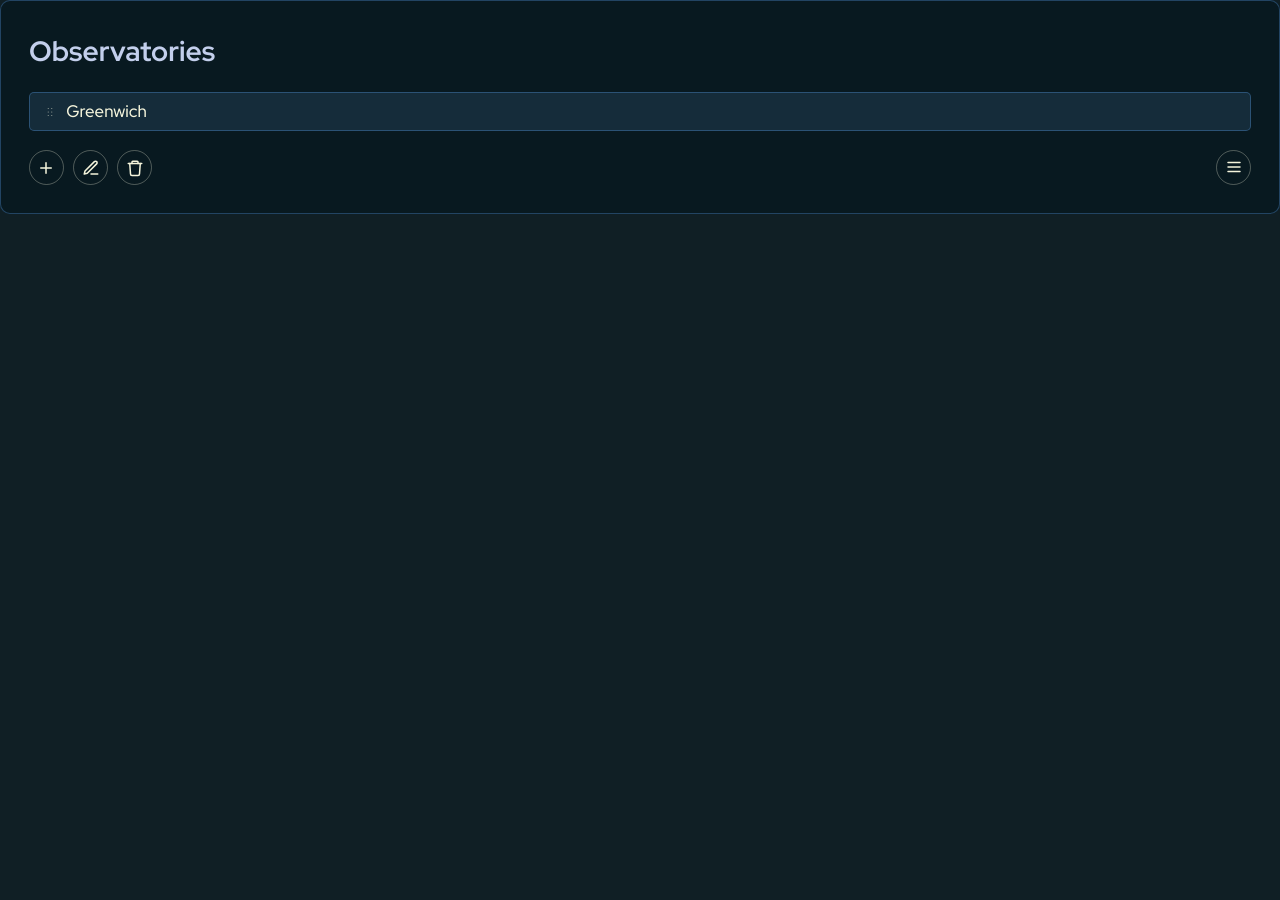
Scenario: adding › opens an empty editor
The image size is (1280, 900).
Click the button named "add observatory" at (46, 167), box x1=29 y1=150 x2=64 y2=185
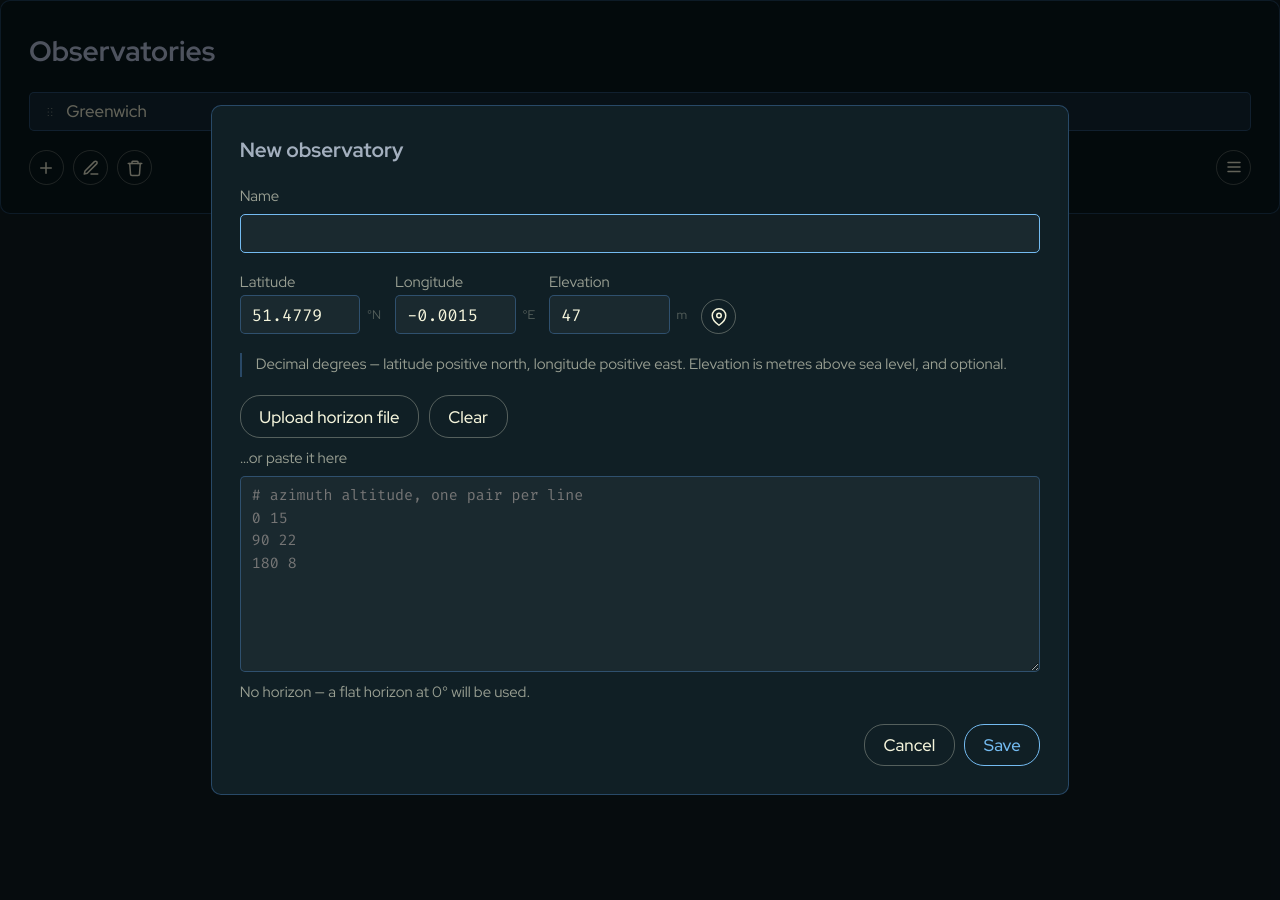
Expected: the field labelled "Name" is empty, x1=240 y1=214 x2=1040 y2=253
Expected: the dialog is shown, x1=211 y1=105 x2=1069 y2=795
Expected: the heading "New observatory" is shown, x1=240 y1=136 x2=404 y2=163
